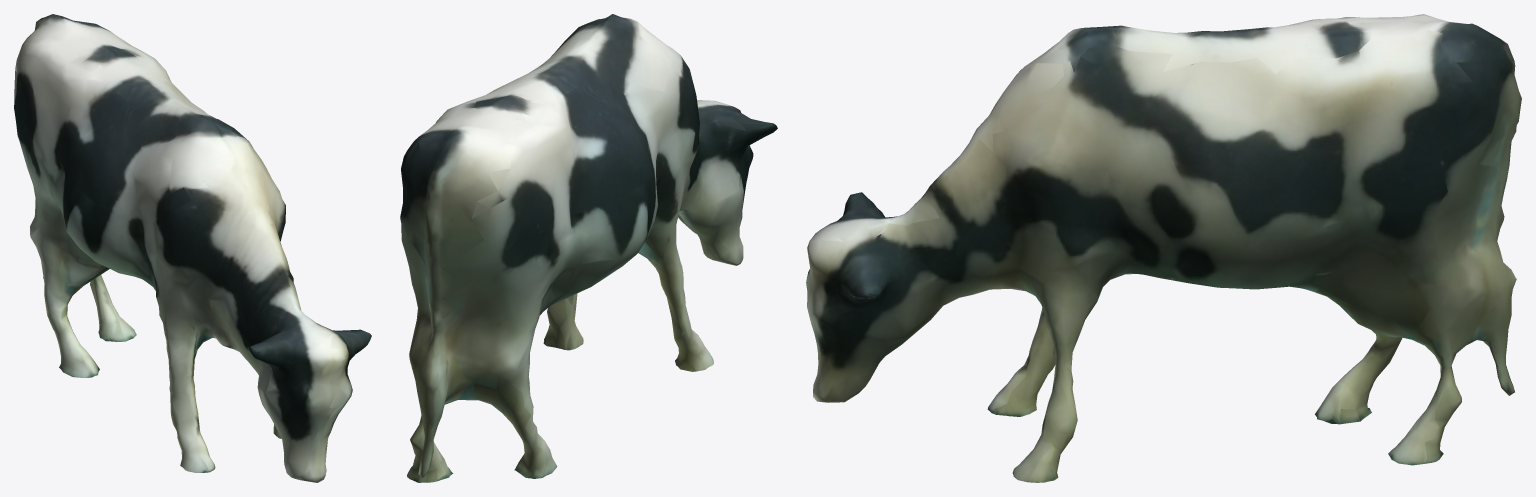
File: Cattle_typ2.glb
3 renders of one model, left to right at view 1: azimuth 30°, elevation 25°; view 2: azimuth 150°, elevation 25°; view 3: azimuth 270°, elevation 25°, orthographic. The views are drawn at different scales.
Visible parts, largest first — view 1: Component#56; view 2: Component#56; view 3: Component#56.
Part boxes in pixels (x1=…): Component#56: x1=14, y1=14, x2=371, y2=482; Component#56: x1=400, y1=14, x2=777, y2=482; Component#56: x1=806, y1=14, x2=1521, y2=482.
Size of the model in its own units: 0.7723 by 1.44 by 2.3.
Materials: 5 (3 with a texture image).
